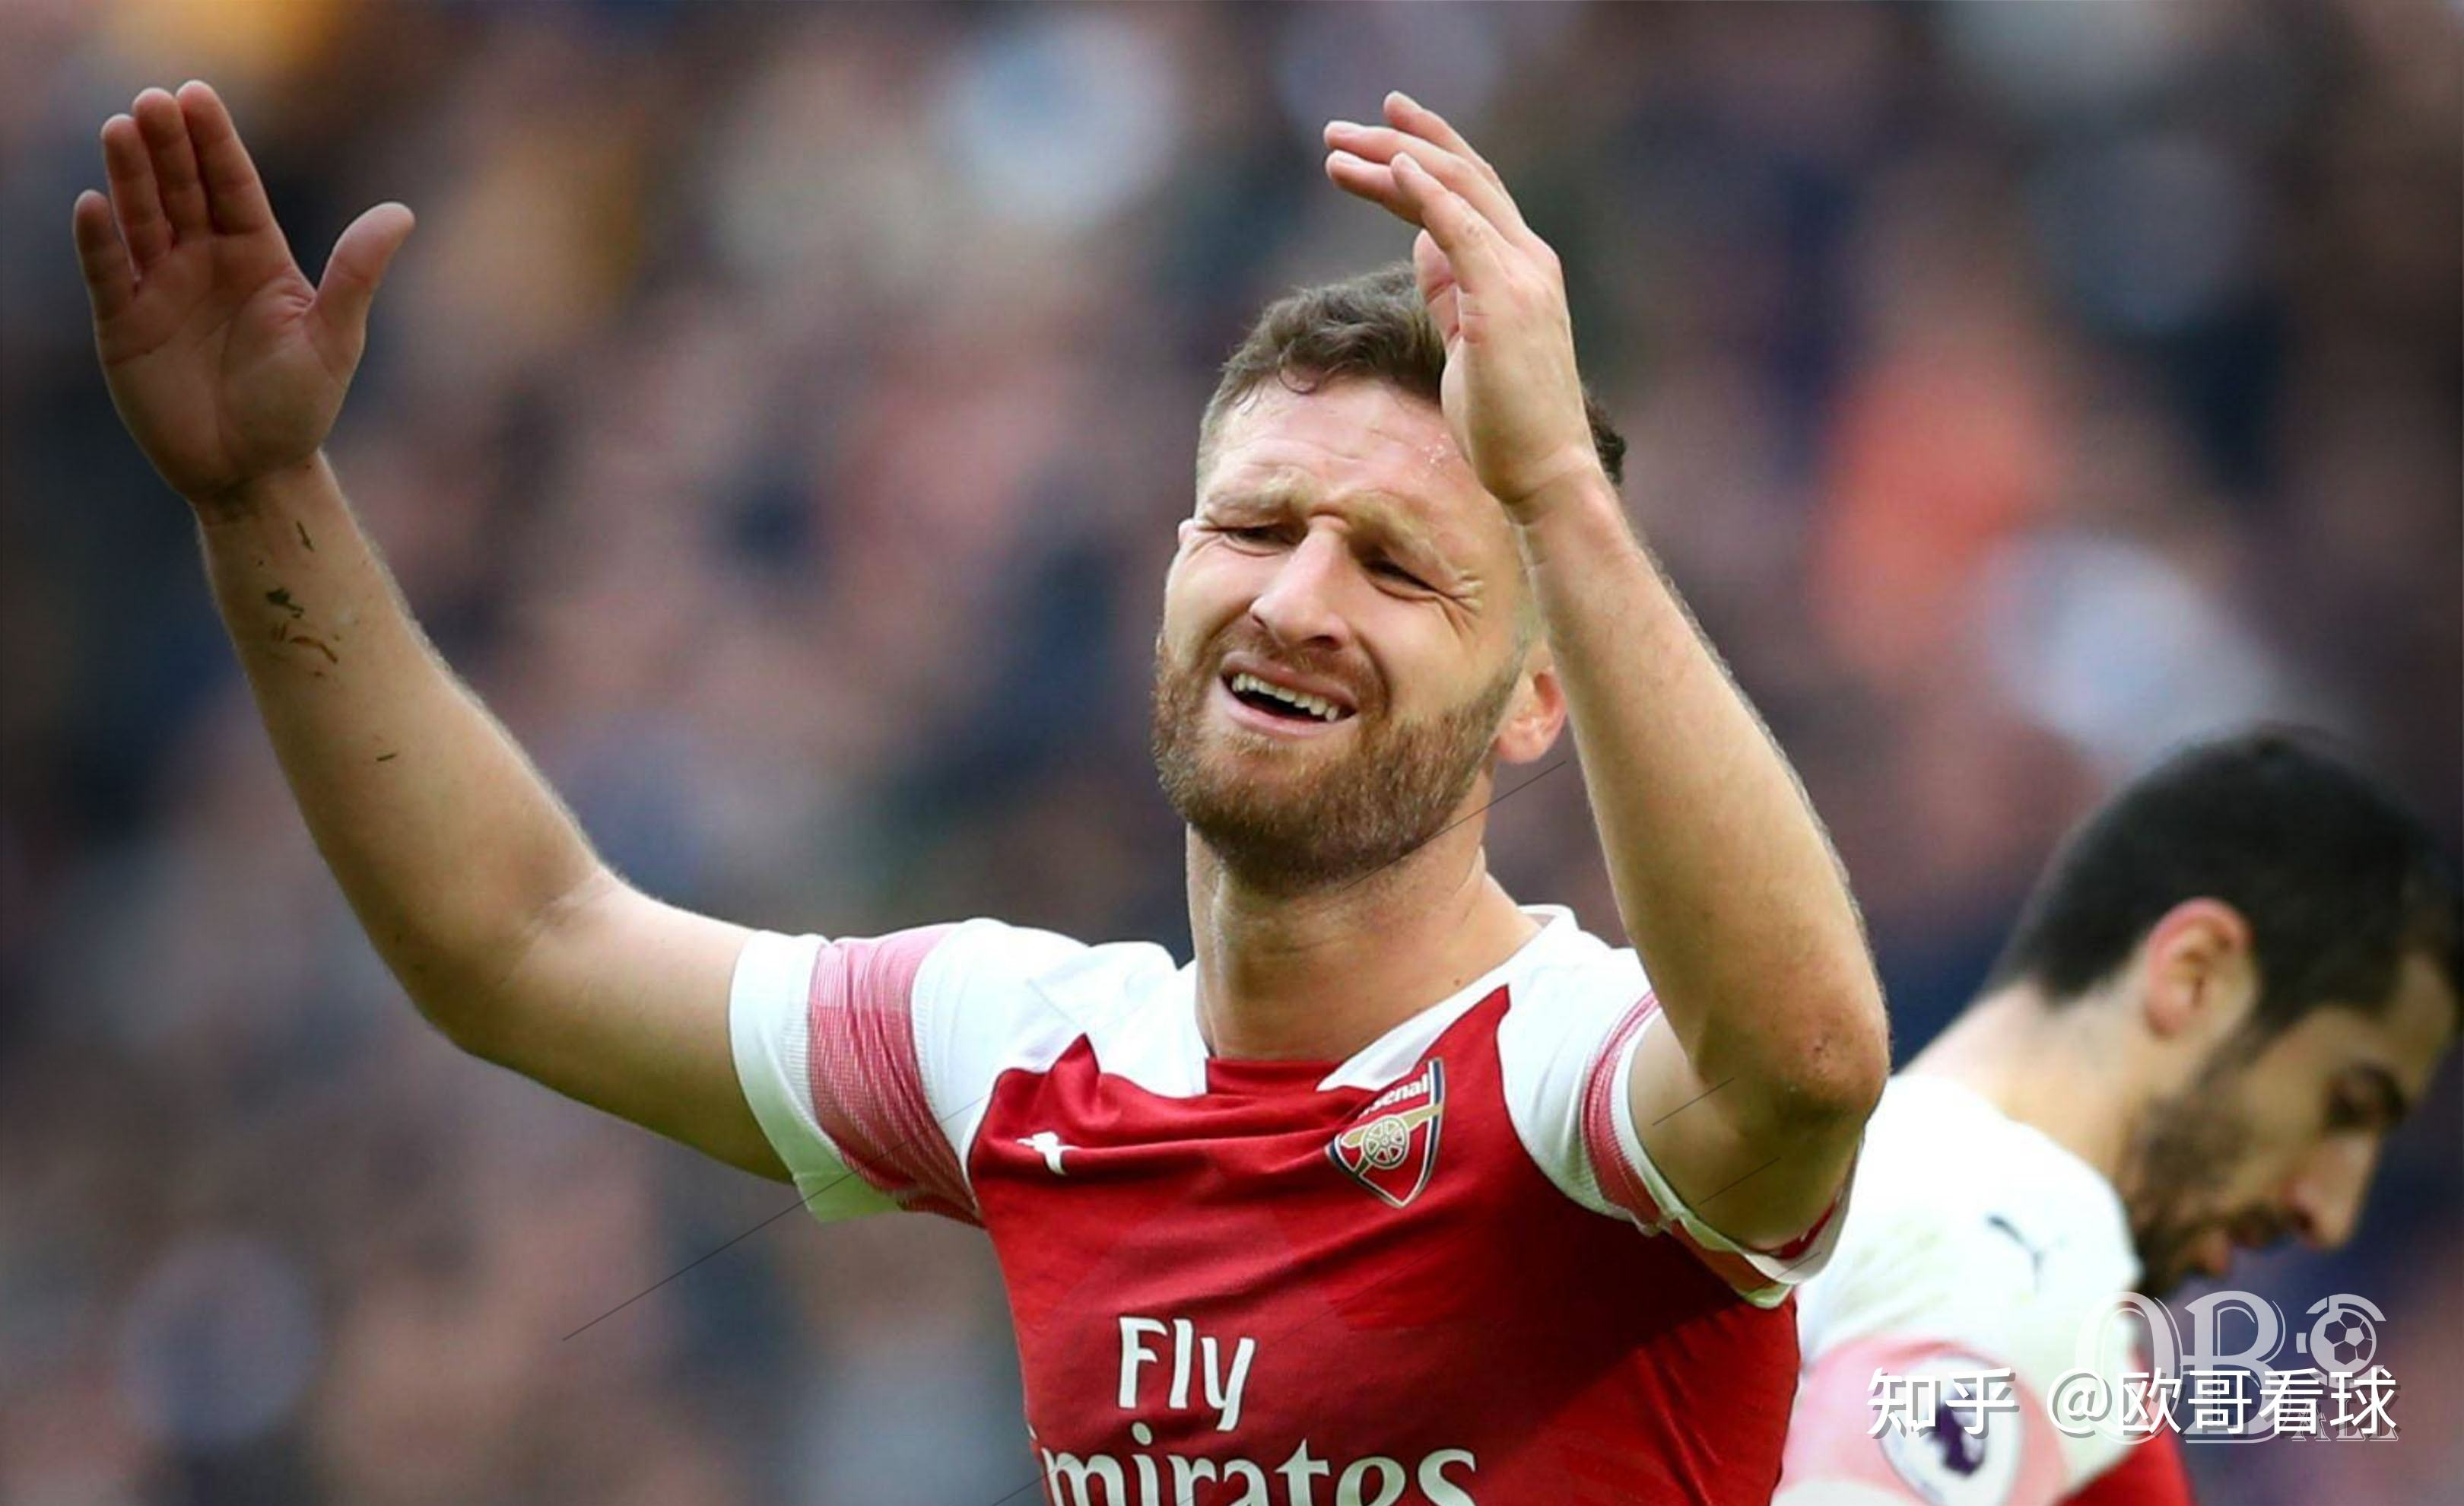no-phone: (65, 72, 415, 498), (1315, 72, 1607, 501)
